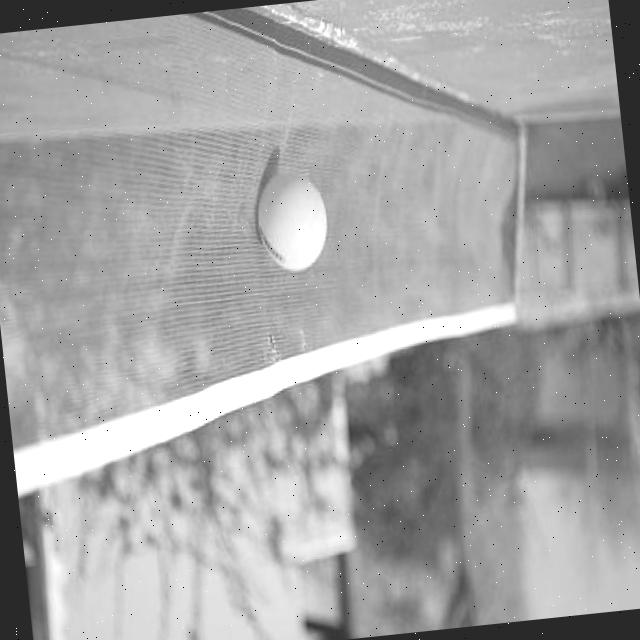ping-pong-ball: (250, 164, 332, 274)
